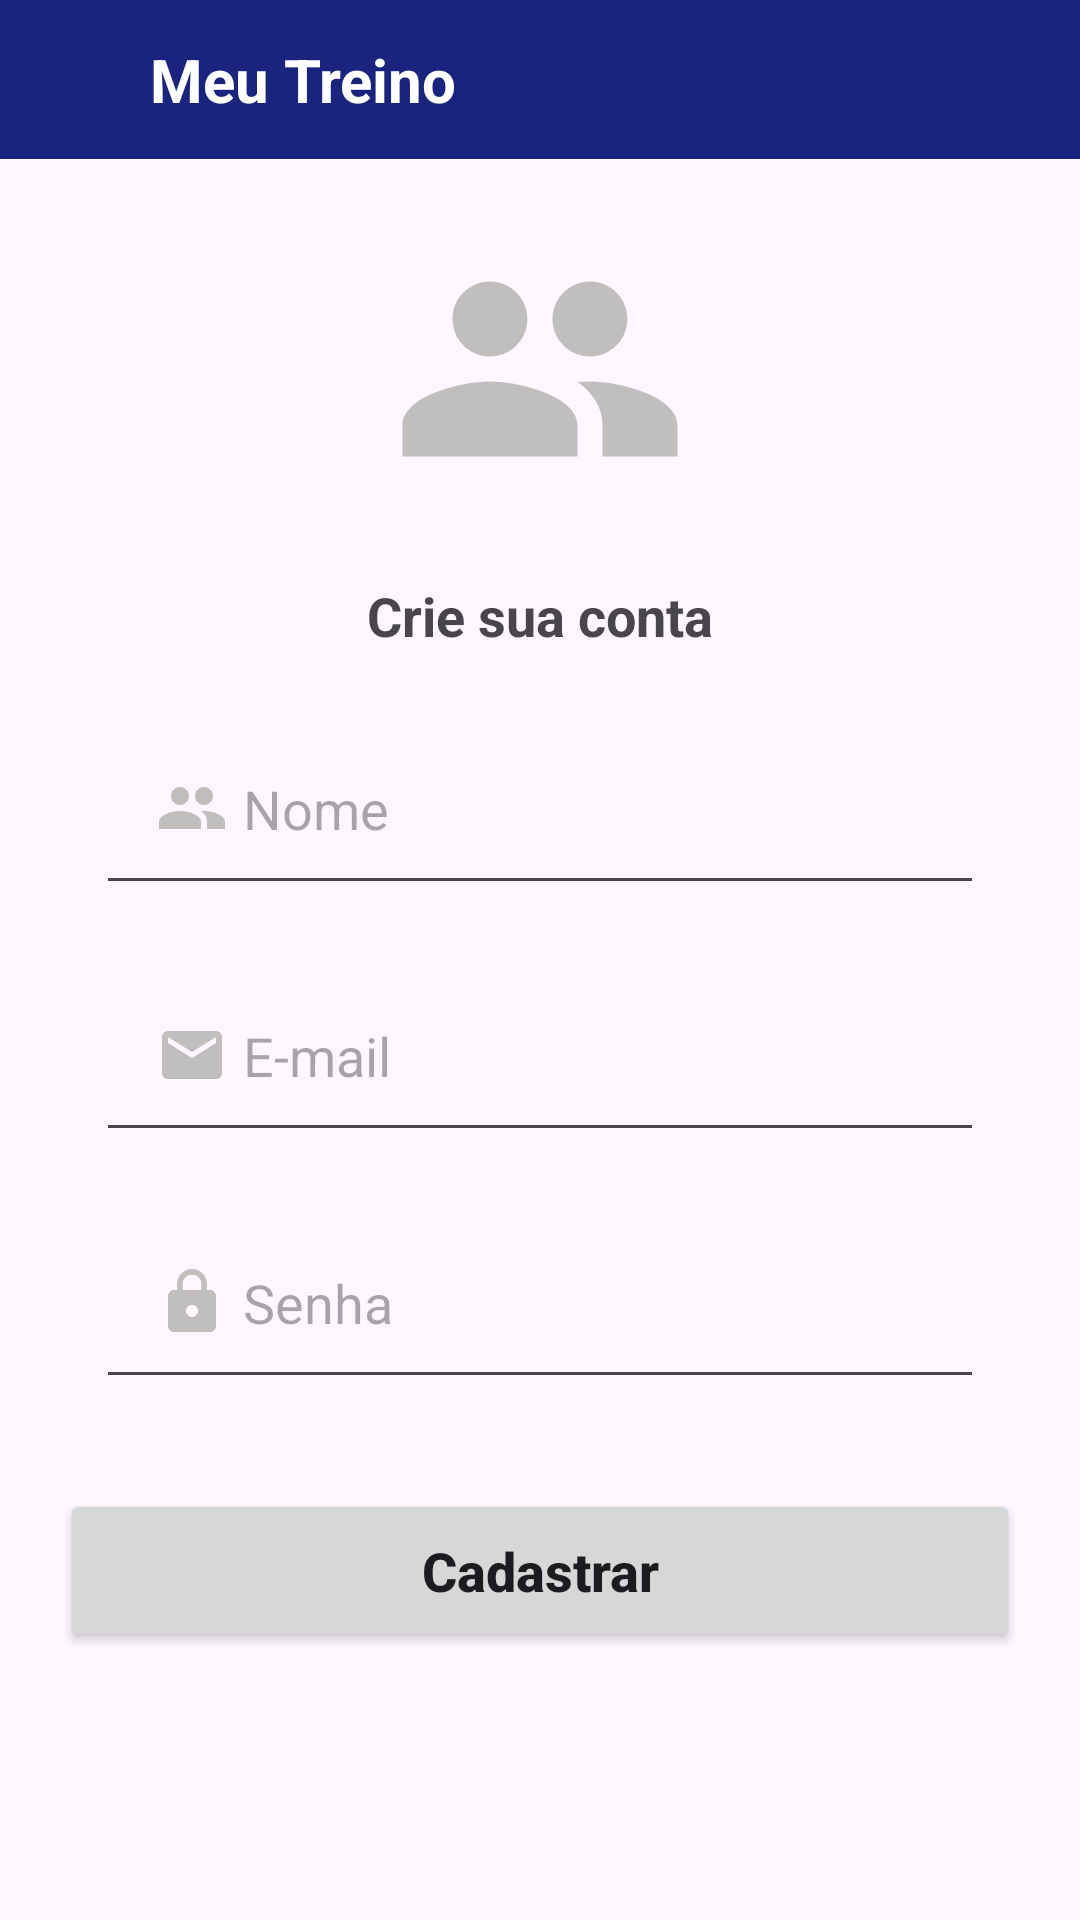

Icons on this 1080w x 1920h Android screen, each with the point to tap as (x=x, y=y):
pessoa cinza: (x=540, y=369)
